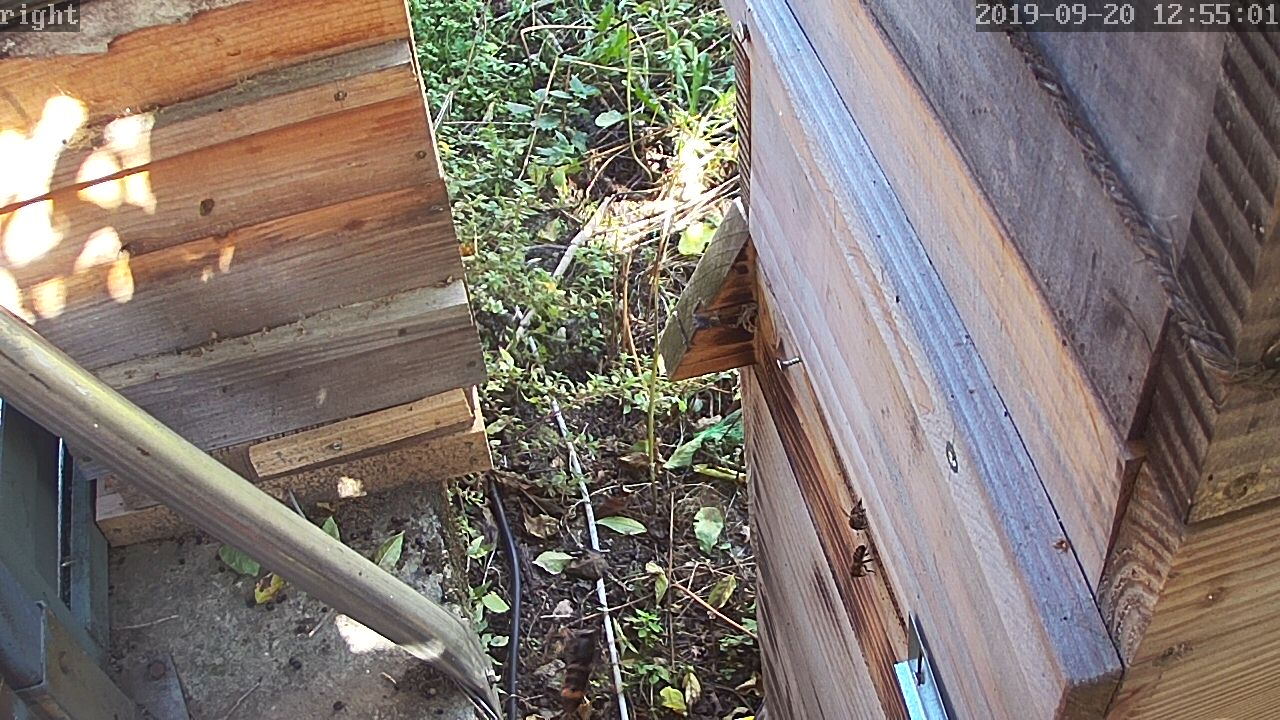bee: (847, 539, 876, 580), (840, 498, 869, 531)
hornet: (548, 618, 615, 711)
